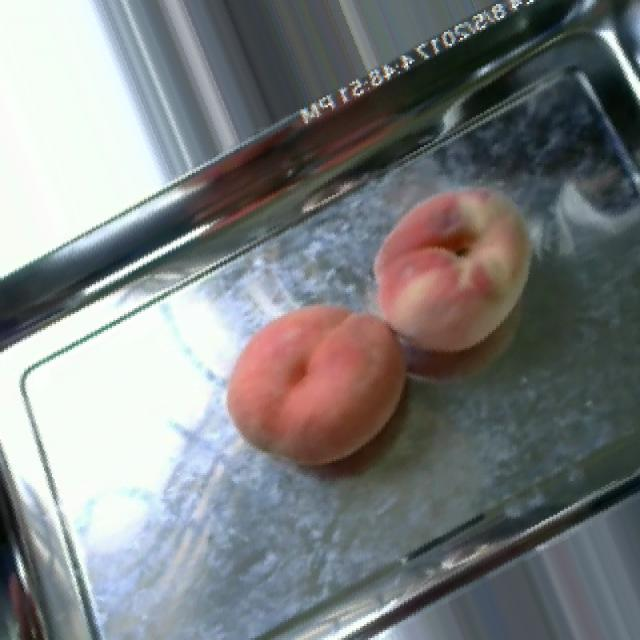Fruit: (204, 280, 424, 485), (351, 167, 549, 370)
